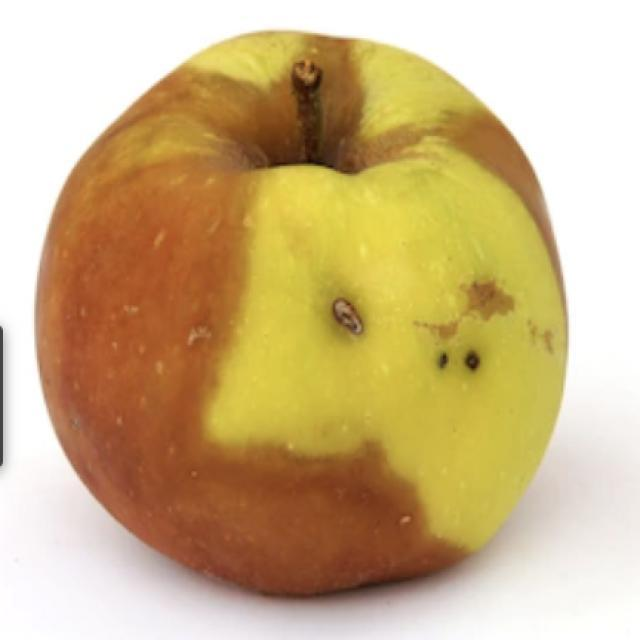Rotten: (34, 21, 554, 572)
